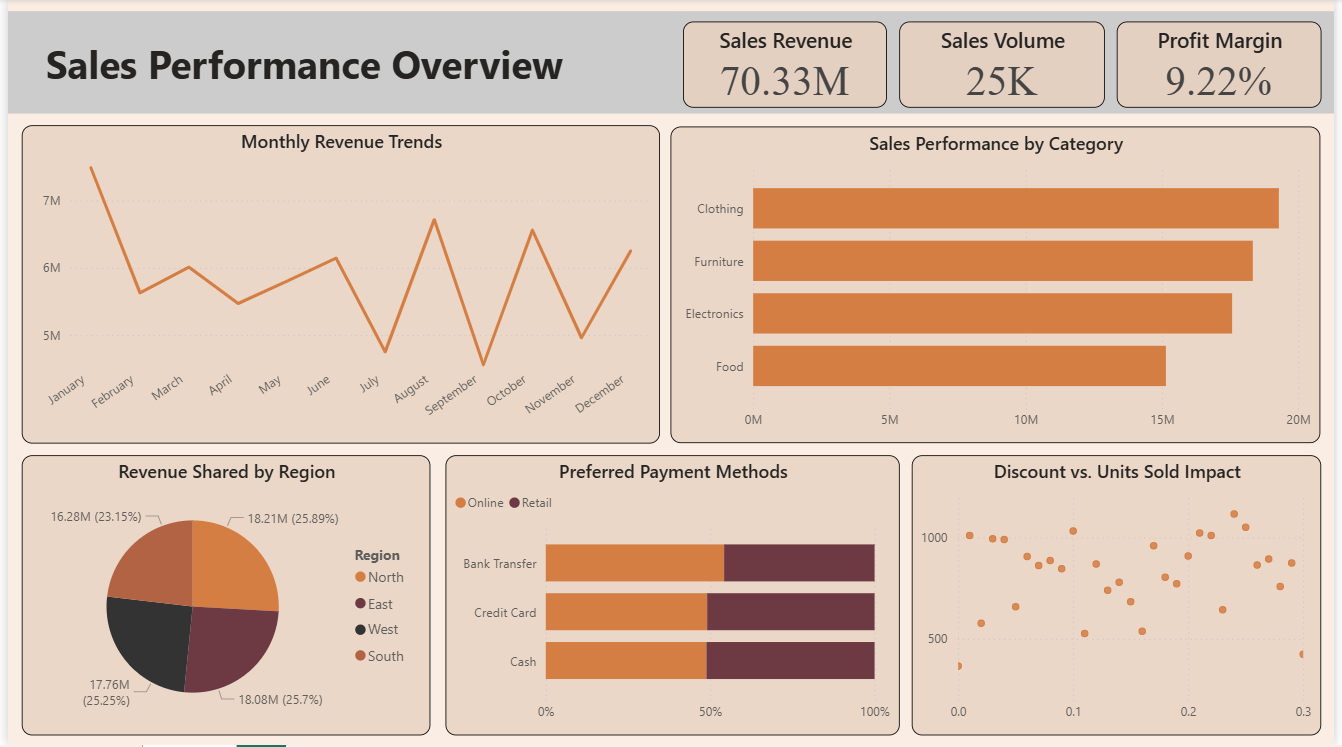

Layout of this report page (visuals, bound fields, positions):
{"tool":"powerbi","page":{"name":"Page 1","canvas":[1280,720],"ordinal":0},"visuals":[{"type":"shape","box":[0,11.7,1280,98.3],"z":0,"group":"g1"},{"type":"card","title":"Sales Revenue","fields":{"Values":["Sum(sales_data.Sales_Amount_)"]},"box":[651.7,21.1,196.7,83.3],"z":1000,"group":"g1"},{"type":"card","title":"Sales Volume","fields":{"Values":["Sum(sales_data.Quantity_Sold)"]},"box":[860,21.1,198.3,83.3],"z":2000,"group":"g1"},{"type":"card","title":"Profit Margin","fields":{"Values":["sales_data.profit_margin"]},"box":[1070,21.1,197.5,83.3],"z":3000,"group":"g1"},{"type":"lineChart","title":"Monthly Revenue Trends","fields":{"Y":["Sum(sales_data.Sales_Amount_)"],"Category":["sales_data.Sale_Date.Variation.Date Hierarchy.Month","sales_data.Sale_Date.Variation.Date Hierarchy.Day"]},"box":[12.9,121.4,615.7,307.1],"z":4000},{"type":"clusteredBarChart","title":"Sales Performance by Category","fields":{"Category":["sales_data.Product_Category"],"Y":["Sum(sales_data.Sales_Amount_)"]},"box":[640,122.9,627.1,305.7],"z":5000},{"type":"pieChart","title":"Revenue Shared by Region","fields":{"Category":["sales_data.Region"],"Y":["Sum(sales_data.Sales_Amount_)"]},"box":[12.9,440,394.3,270],"z":6000},{"type":"hundredPercentStackedBarChart","title":"Preferred Payment Methods","fields":{"Category":["sales_data.Payment_Method"],"Y":["Sum(sales_data.Sales_Amount_)"],"Series":["sales_data.Sales_Channel"]},"box":[421.7,440,438.3,270],"z":7000},{"type":"scatterChart","title":"Discount vs. Units Sold Impact","fields":{"X":["sales_data.Discount"],"Y":["Sum(sales_data.Quantity_Sold)"]},"box":[871.7,440,395,270],"z":8000},{"type":"textbox","box":[31.4,32.6,610.5,66.4],"z":9000,"group":"g1"},{"type":"group","id":"g1","title":"Group 1","box":[0,11.7,1280,98.3],"z":9001}]}

Visuals, with their boxes in screenshot pixels (x1, y1, x2, y2), scaled from the page's 1280x720 canvas onto the 1342x747 screenshot:
shape: (0, 12, 1341, 114)
"Sales Revenue" card: (683, 22, 889, 108)
"Sales Volume" card: (902, 22, 1110, 108)
"Profit Margin" card: (1122, 22, 1329, 108)
"Monthly Revenue Trends" lineChart: (14, 126, 659, 445)
"Sales Performance by Category" clusteredBarChart: (671, 128, 1328, 445)
"Revenue Shared by Region" pieChart: (14, 457, 427, 737)
"Preferred Payment Methods" hundredPercentStackedBarChart: (442, 457, 902, 737)
"Discount vs. Units Sold Impact" scatterChart: (914, 457, 1328, 737)
textbox: (33, 34, 673, 103)
"Group 1" group: (0, 12, 1341, 114)
